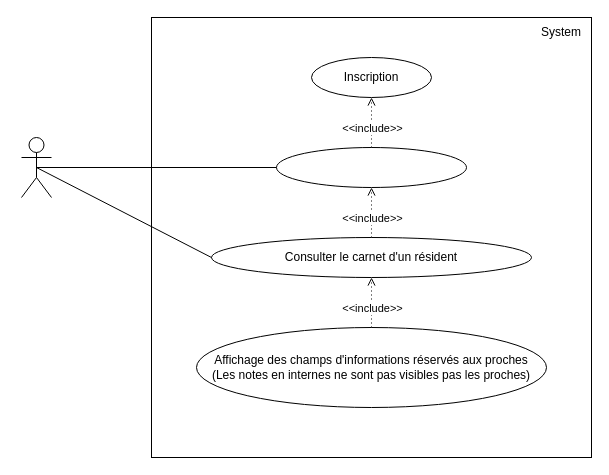
The diagram is 609 pixels wide and 475 high, and some of its shapes have lost their labels. The centre of each missing label's shape, as x and y in pixels:
Connexion: the point at 371,167
Proche: the point at 36,167
